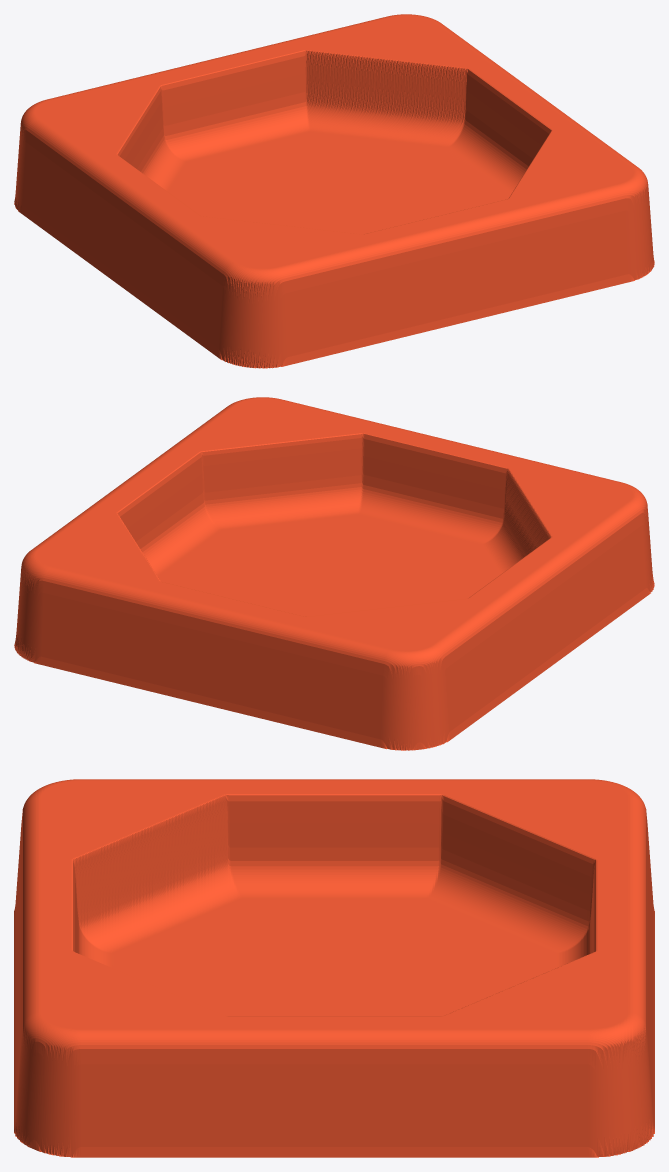
The model's file is mold.glb.
The picture shows the model from 3 angles, top to bottom: view 1: azimuth 30°, elevation 25°; view 2: azimuth 150°, elevation 25°; view 3: azimuth 270°, elevation 25°; orthographic projection. The views are drawn at different scales.
Parts seen in each view (by area): view 1: geometry_0; view 2: geometry_0; view 3: geometry_0.
Boxes of the visible parts, x1=… form: geometry_0: x1=14, y1=14, x2=654, y2=368; geometry_0: x1=14, y1=397, x2=654, y2=750; geometry_0: x1=14, y1=779, x2=654, y2=1157.
Size of the model in its own units: 0.0868 by 0.0175 by 0.0868.
